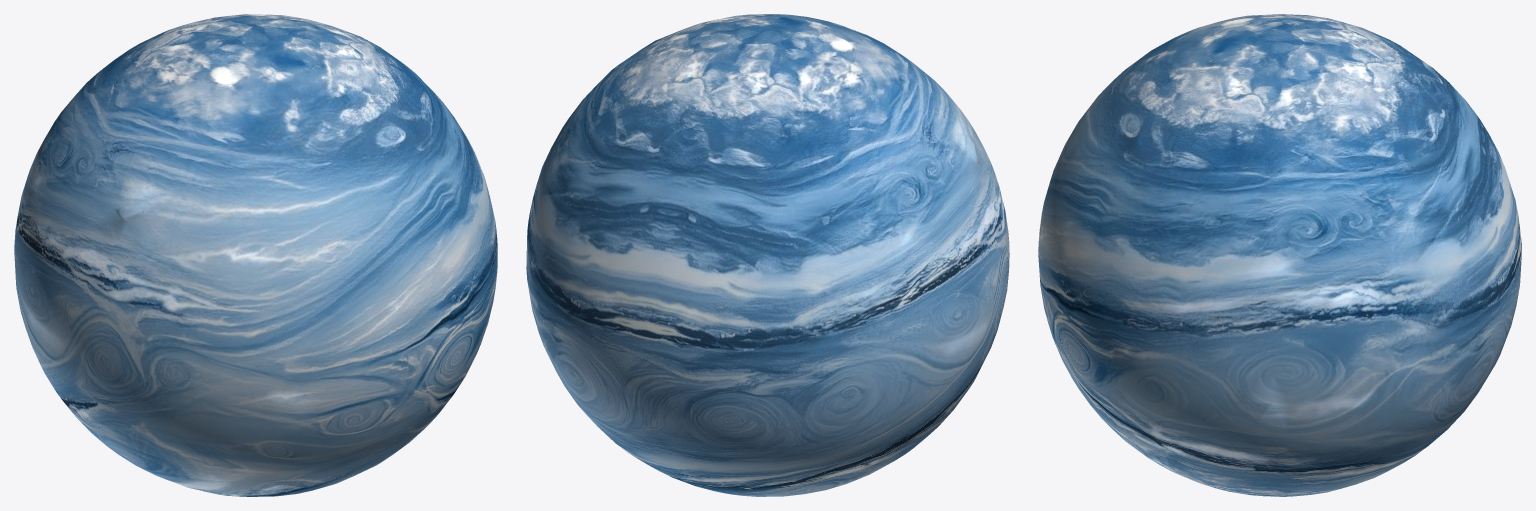
The model's file is neptune.glb.
3 renders of one model, left to right at view 1: azimuth 30°, elevation 25°; view 2: azimuth 150°, elevation 25°; view 3: azimuth 270°, elevation 25°, orthographic.
Visible parts, largest first — view 1: Mesh_0; view 2: Mesh_0; view 3: Mesh_0.
Boxes of the visible parts, x1,y1,x2,y2 form: Mesh_0: (14,14,497,496); Mesh_0: (526,14,1009,496); Mesh_0: (1038,14,1521,496).
Bounding box in the file's own units: 1.91 × 1.91 × 1.91.
Materials: 1 (1 with a texture image).
